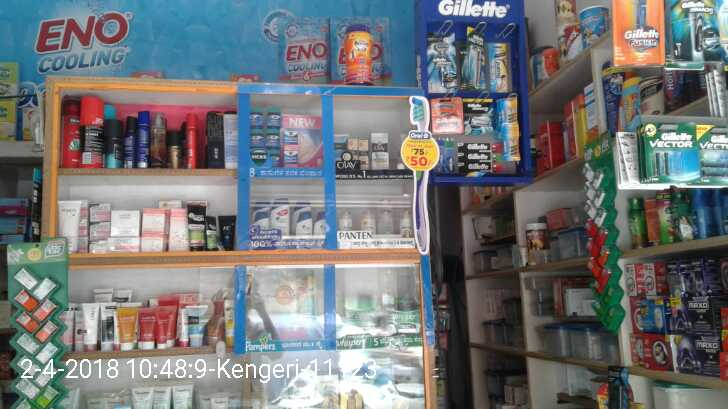vicks: (250, 106, 281, 170), (282, 128, 300, 170)
